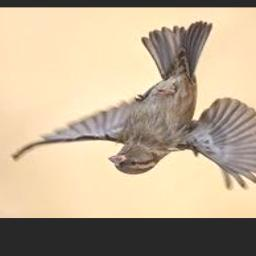Sparrow: (12, 21, 256, 190)
